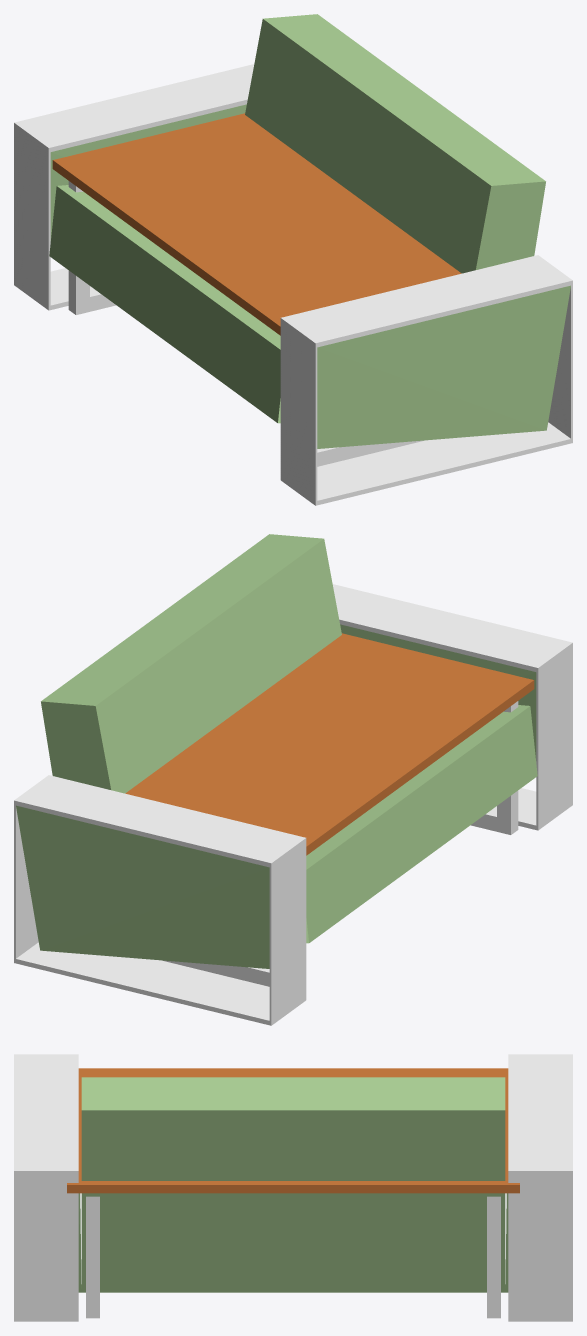
The picture shows the model from 3 angles, top to bottom: view 1: azimuth 30°, elevation 25°; view 2: azimuth 150°, elevation 25°; view 3: azimuth 270°, elevation 25°; orthographic projection. The views are drawn at different scales.
Parts seen in each view (by area): view 1: Sofa00, TeaTable; view 2: Sofa00, TeaTable; view 3: Sofa00, TeaTable.
Boxes of the visible parts, x1=… form: Sofa00: x1=14, y1=14, x2=572, y2=505; TeaTable: x1=52, y1=113, x2=461, y2=466; Sofa00: x1=14, y1=534, x2=572, y2=1025; TeaTable: x1=125, y1=633, x2=534, y2=986; Sofa00: x1=14, y1=1054, x2=572, y2=1321; TeaTable: x1=67, y1=1068, x2=519, y2=1318.
Size of what is drawn, in the model's own units: 81.48 by 70.05 by 159.
